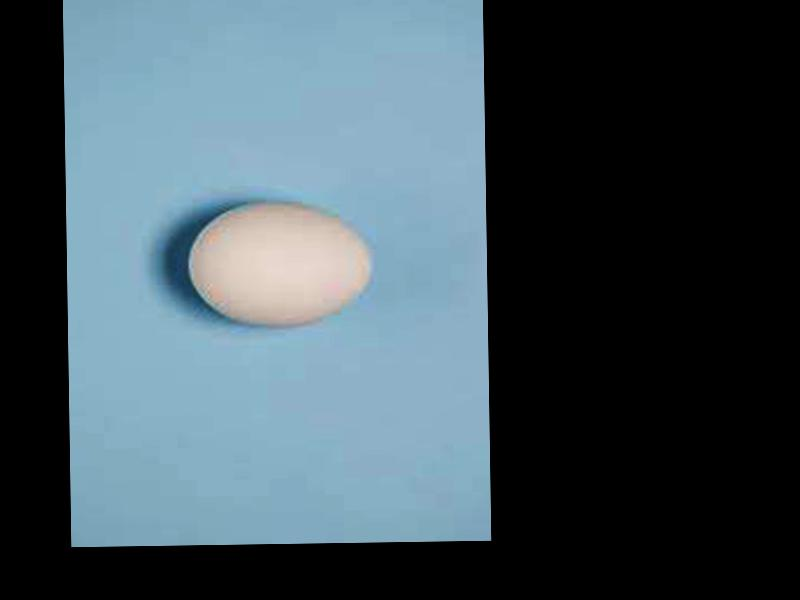Eggs: (187, 202, 375, 329)
